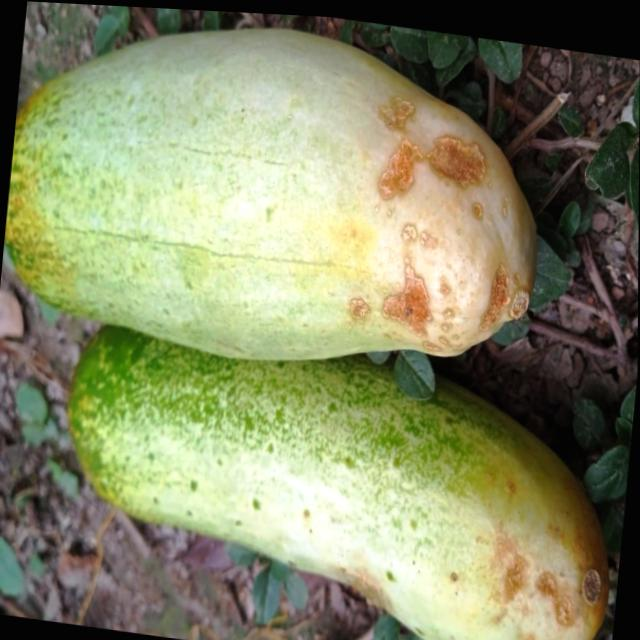Belly-Rot: (338, 70, 539, 362), (474, 460, 614, 640), (328, 550, 402, 617)
